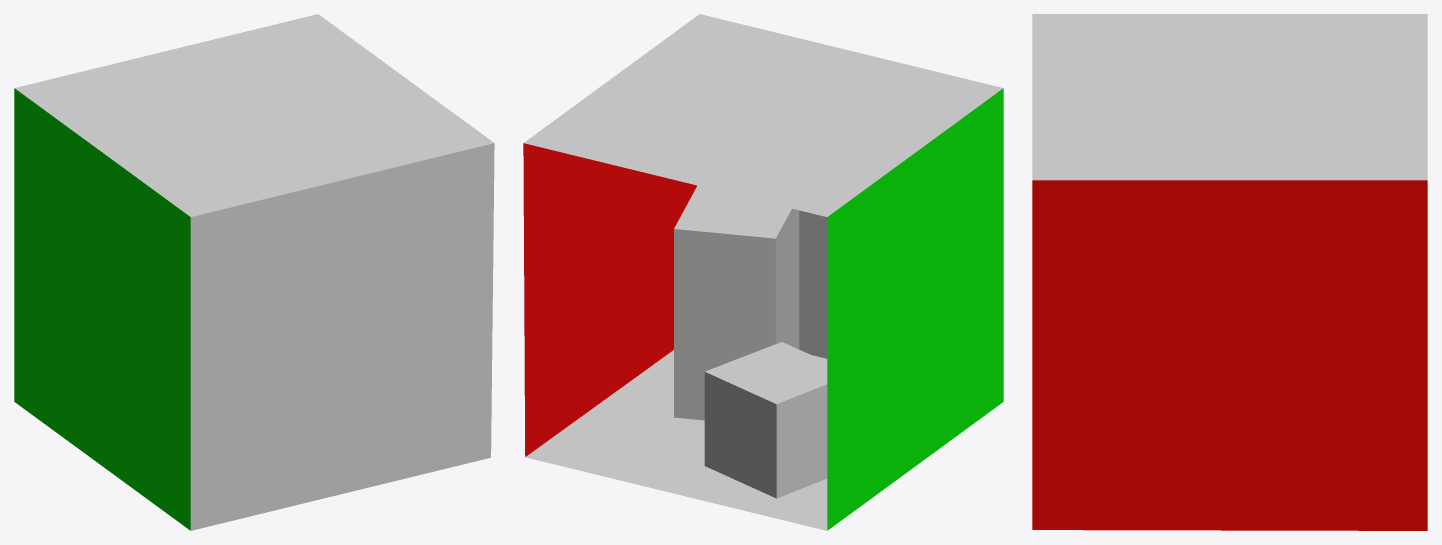
Rendered from cornell_box.obj.
The picture shows the model from 3 angles, left to right: view 1: azimuth 30°, elevation 25°; view 2: azimuth 150°, elevation 25°; view 3: azimuth 270°, elevation 25°; orthographic projection. The views are drawn at different scales.
Visible parts, largest first — view 1: back_wall, green_wall, ceiling; view 2: green_wall, ceiling, red_wall, tall_block, floor, short_block, back_wall; view 3: red_wall, ceiling.
Boxes of the visible parts, bbox=[...] form: back_wall: bbox=[190, 143, 494, 530]; green_wall: bbox=[14, 88, 190, 530]; ceiling: bbox=[14, 14, 493, 216]; green_wall: bbox=[827, 88, 1003, 530]; ceiling: bbox=[524, 14, 1003, 216]; red_wall: bbox=[523, 143, 696, 456]; tall_block: bbox=[674, 185, 799, 420]; floor: bbox=[525, 350, 827, 530]; short_block: bbox=[704, 342, 827, 498]; back_wall: bbox=[799, 210, 827, 358]; red_wall: bbox=[1032, 180, 1427, 530]; ceiling: bbox=[1032, 14, 1427, 180].
Bounding box in the file's own units: 556 × 549 × 559.
